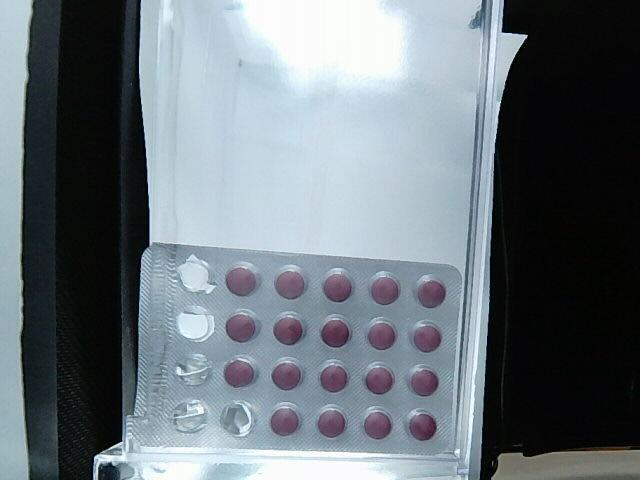Light Front: (124, 243, 463, 458)
No Pill Front: (178, 255, 215, 293), (176, 306, 213, 341), (220, 401, 253, 436), (175, 354, 211, 385), (174, 400, 207, 431)
Pill Front: (225, 263, 260, 296), (274, 264, 307, 299), (321, 268, 354, 302), (225, 310, 260, 341), (369, 271, 401, 304), (274, 313, 306, 345), (366, 318, 397, 350), (320, 315, 351, 347), (364, 363, 395, 394), (271, 359, 302, 390), (320, 360, 350, 392), (410, 321, 441, 351), (409, 365, 439, 395), (224, 358, 255, 387), (416, 275, 444, 307), (318, 406, 346, 437), (408, 410, 436, 440), (364, 409, 392, 439), (271, 408, 298, 435)
